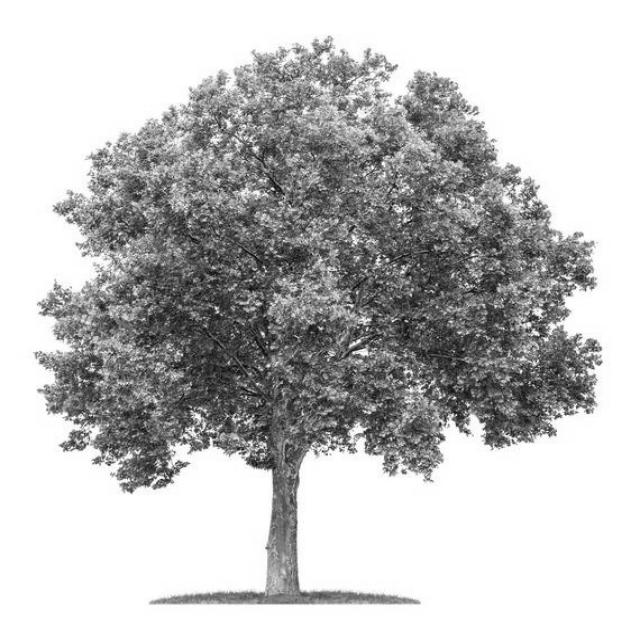Tree: (38, 41, 601, 594)
